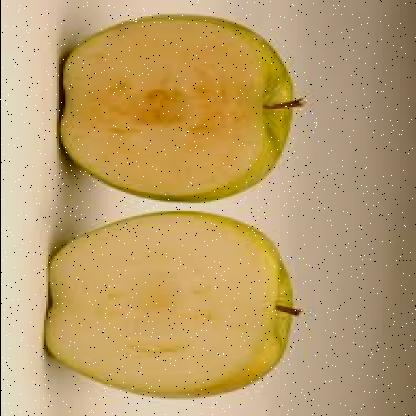damaged_apple: (38, 213, 289, 397), (64, 16, 286, 200)
